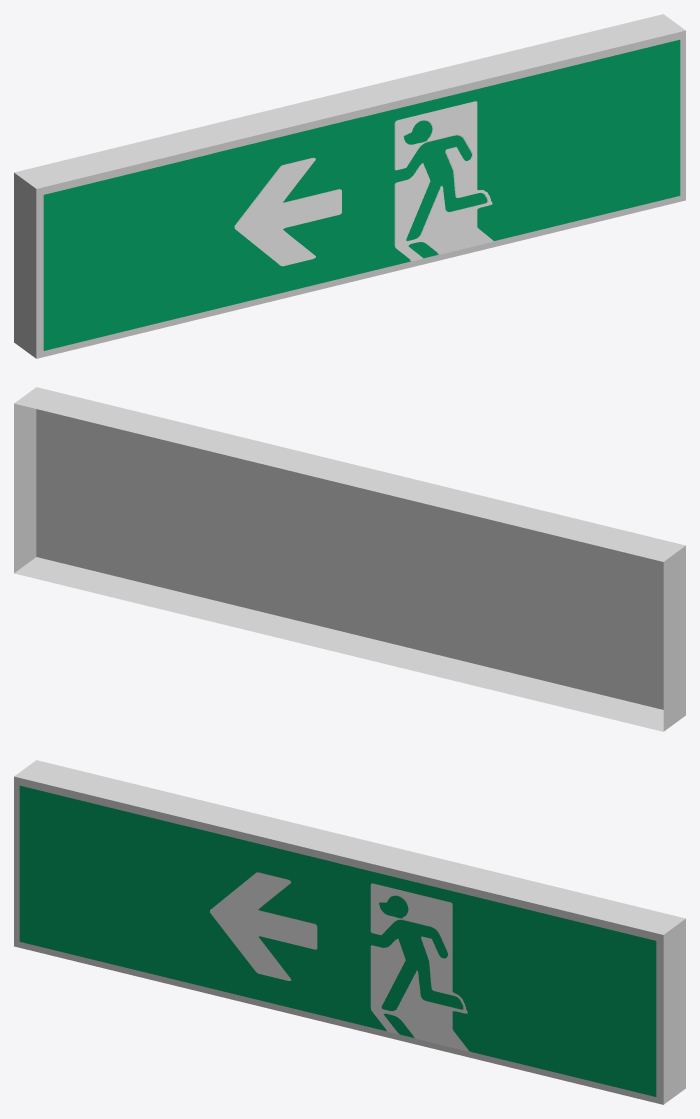
The model's file is Exit Left 250.fbx.
The picture shows the model from 3 angles, top to bottom: view 1: azimuth 30°, elevation 25°; view 2: azimuth 150°, elevation 25°; view 3: azimuth 330°, elevation 25°; orthographic projection.
Parts seen in each view (by area): view 1: Sign Exit Left 250, Exit Left 250 Housing; view 2: Exit Left 250 Housing; view 3: Sign Exit Left 250, Exit Left 250 Housing.
Boxes of the visible parts, x1,y1,x2,y2 form: Sign Exit Left 250: (43,39,680,350); Exit Left 250 Housing: (14,14,685,358); Exit Left 250 Housing: (14,387,685,731); Sign Exit Left 250: (19,785,656,1096); Exit Left 250 Housing: (14,760,685,1104).
Size of the model in its own units: 1 by 0.063 by 0.25.
